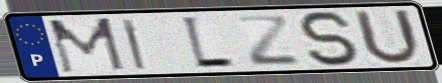I: (119, 17, 149, 72)
L: (178, 14, 239, 72)
M: (44, 16, 129, 76)
S: (294, 9, 365, 69)
U: (350, 8, 424, 67)
Z: (232, 14, 303, 68)
